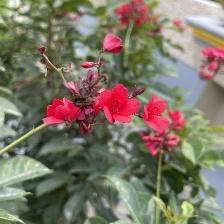jatropha: (97, 85, 141, 126)
